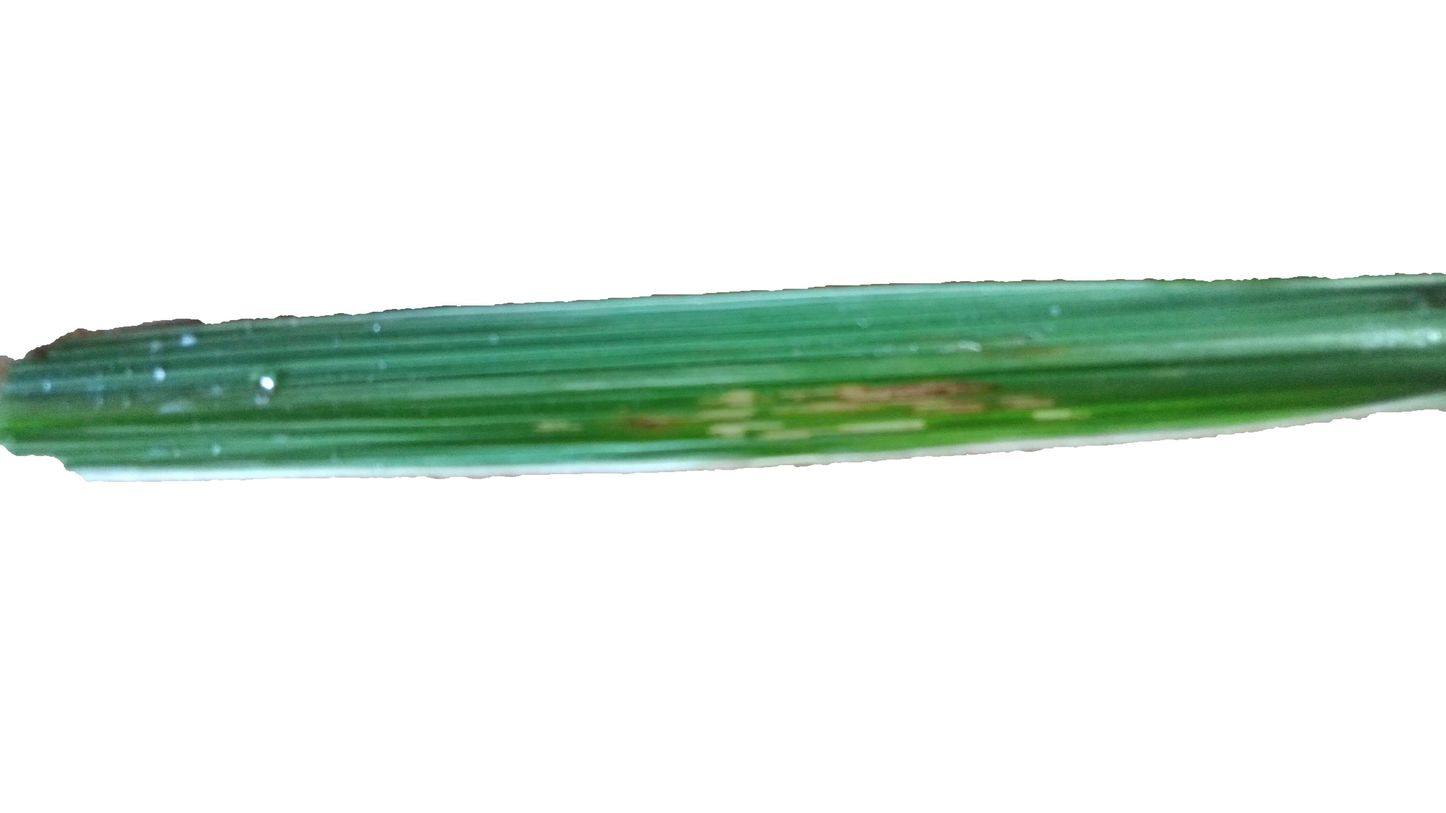Blight: (862, 337, 1062, 420), (683, 379, 782, 438), (532, 396, 626, 446), (620, 363, 667, 462)
